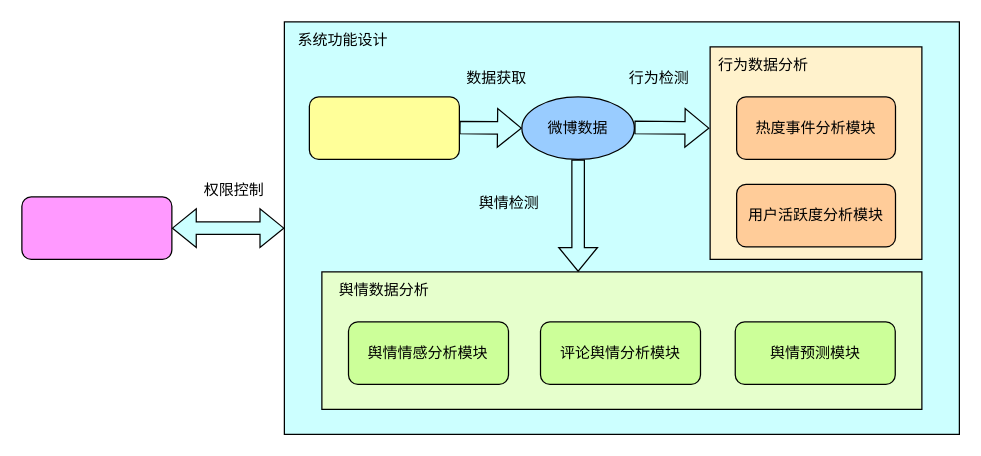
Some shapes in this 981 by 456 pixel diagram are drawn without their labels. The box of each missing label's shape, as (x1, y1, x2, y2) in pixels:
微博数据爬虫模块: (308, 96, 459, 159)
用户认证控制模块: (21, 196, 172, 259)
